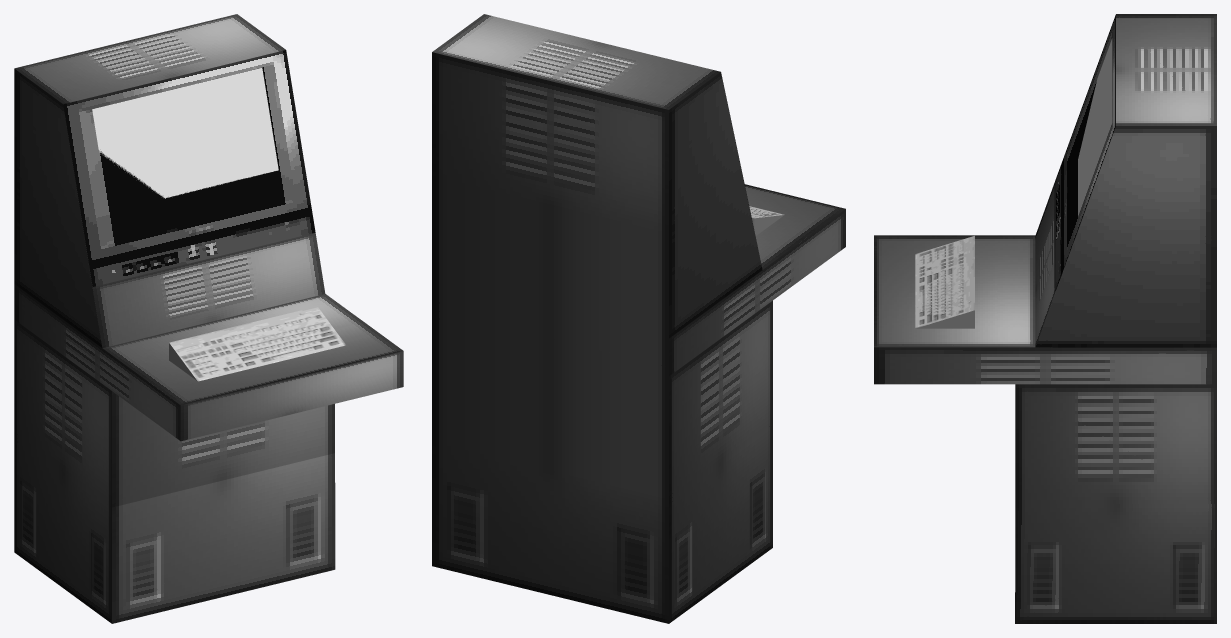
File: primary_075.glb
The picture shows the model from 3 angles, left to right: view 1: azimuth 30°, elevation 25°; view 2: azimuth 150°, elevation 25°; view 3: azimuth 270°, elevation 25°; orthographic projection. The views are drawn at different scales.
Parts seen in each view (by area): view 1: Object; view 2: Object; view 3: Object.
Boxes of the visible parts, left/top/right/bottom form: Object: left=14, top=14, right=403, bottom=623; Object: left=432, top=14, right=845, bottom=623; Object: left=874, top=14, right=1216, bottom=623.
Size of the model in its own units: 0.8592 by 1.78 by 1.11.
19 materials, 19 textured.
